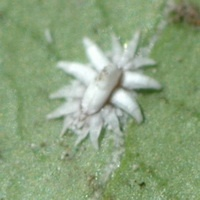insect: (47, 31, 161, 186)
